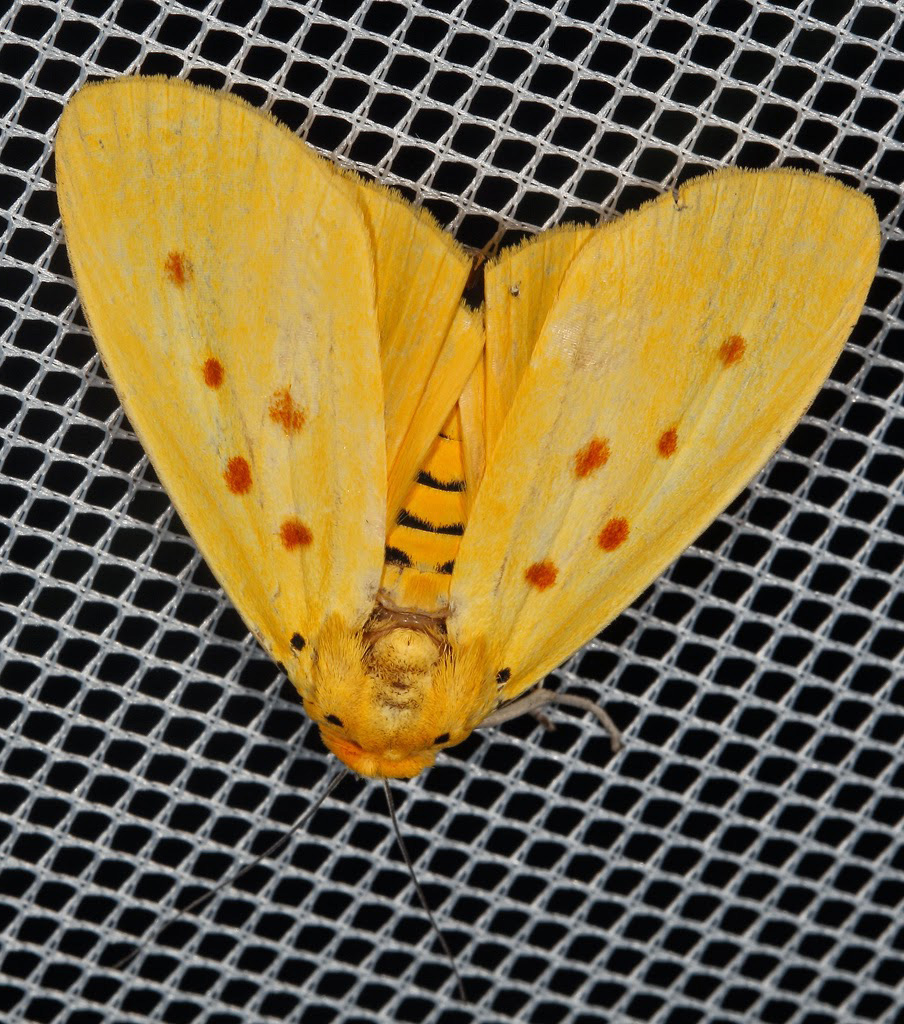Agape chloropyga: (50, 68, 880, 1010)
moth: (52, 70, 882, 1012)
